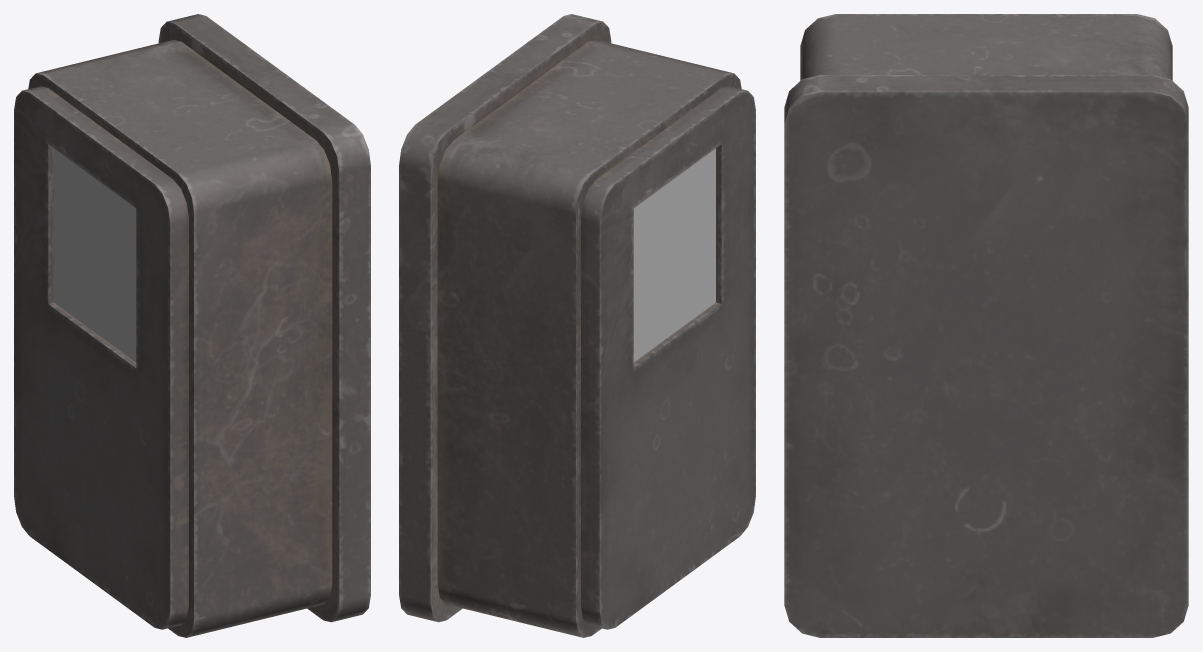
The model's file is ElectricalMeter_B.fbx.
3 renders of one model, left to right at view 1: azimuth 30°, elevation 25°; view 2: azimuth 150°, elevation 25°; view 3: azimuth 270°, elevation 25°, orthographic. The views are drawn at different scales.
Visible parts, largest first — view 1: EletricalMeter_B; view 2: EletricalMeter_B; view 3: EletricalMeter_B.
Part boxes in pixels (box(x1,y1,x2,y2)): EletricalMeter_B: box(14, 14, 370, 637); EletricalMeter_B: box(399, 14, 755, 637); EletricalMeter_B: box(784, 14, 1188, 637).
Bounding box in the file's own units: 10.9 × 26.96 × 18.1.
